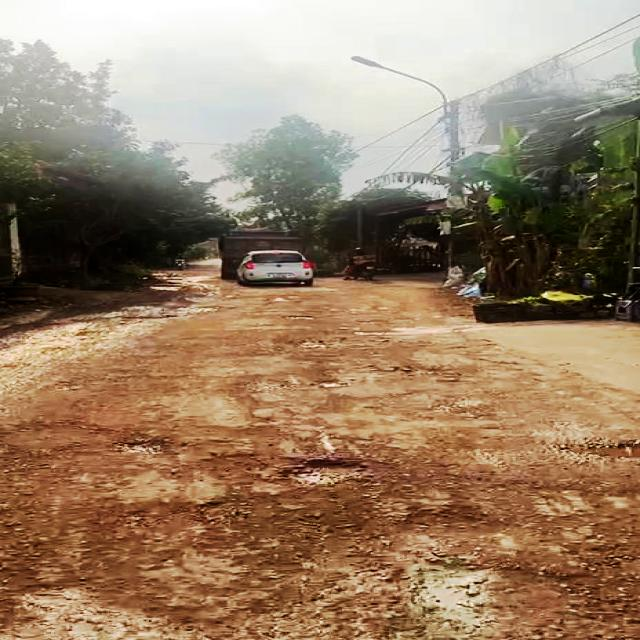pothole: (408, 555, 640, 640), (404, 505, 516, 540), (277, 452, 367, 487), (554, 433, 640, 460), (203, 454, 269, 486), (109, 433, 178, 459), (247, 377, 345, 394), (296, 339, 334, 351), (280, 314, 317, 320)
